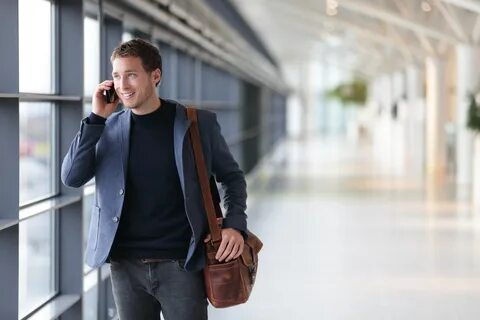awake: (59, 38, 249, 320)
